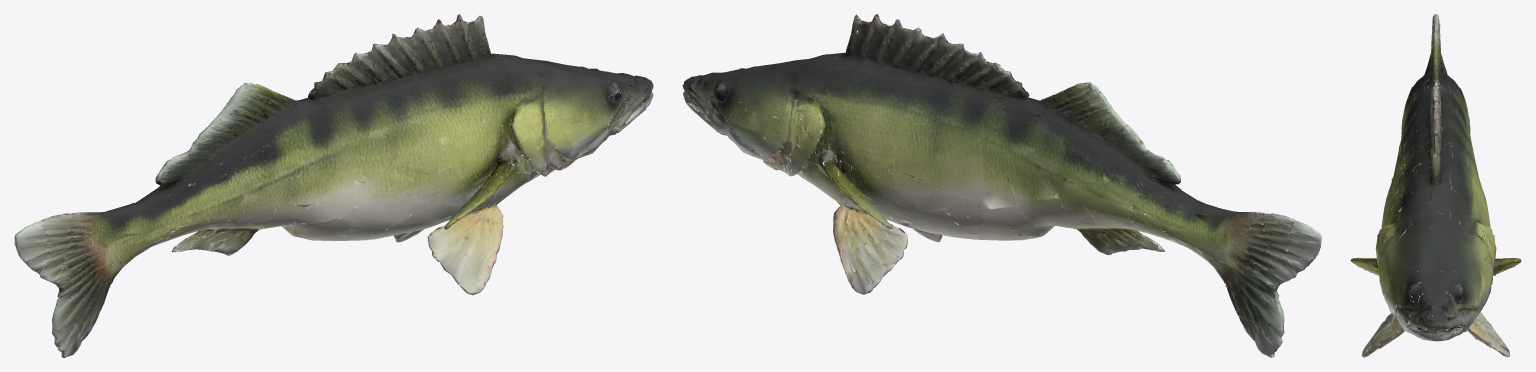
The model's file is zander.glb.
3 renders of one model, left to right at view 1: azimuth 30°, elevation 25°; view 2: azimuth 150°, elevation 25°; view 3: azimuth 270°, elevation 25°, orthographic.
Parts seen in each view (by area): view 1: zander_realistic.002; view 2: zander_realistic.002; view 3: zander_realistic.002.
Part boxes in pixels (x1,y1,x2,y2): zander_realistic.002: (14, 14, 653, 357); zander_realistic.002: (682, 14, 1321, 357); zander_realistic.002: (1350, 14, 1521, 357).
Bounding box in the file's own units: 1 × 0.3739 × 0.2336.
1 material, 1 textured.
